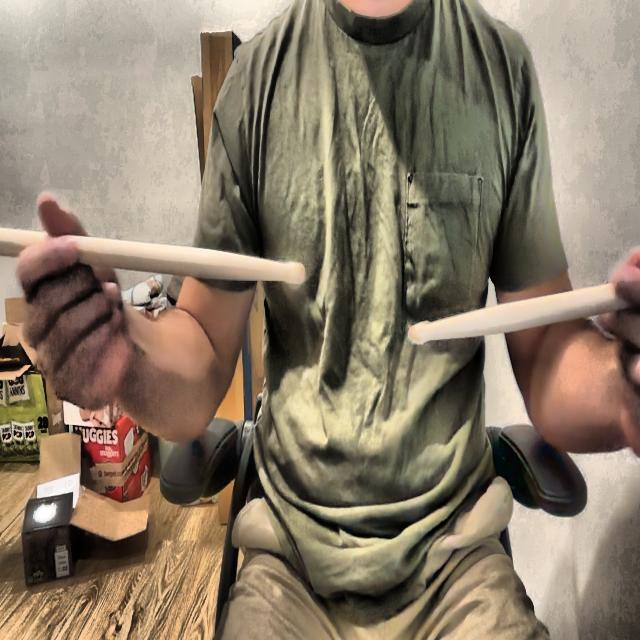Drumstick-Heads: (281, 250, 306, 293), (407, 315, 430, 349)
